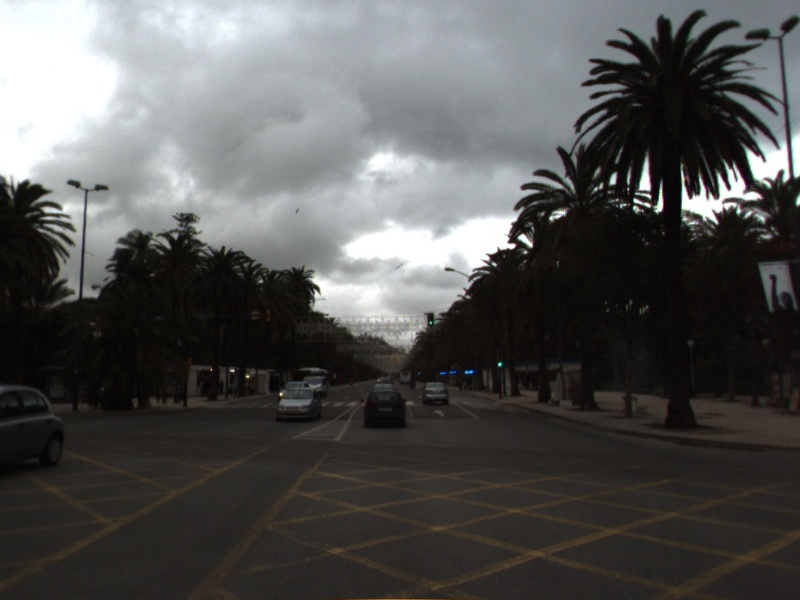STRAIGHT: (431, 407, 449, 419)
